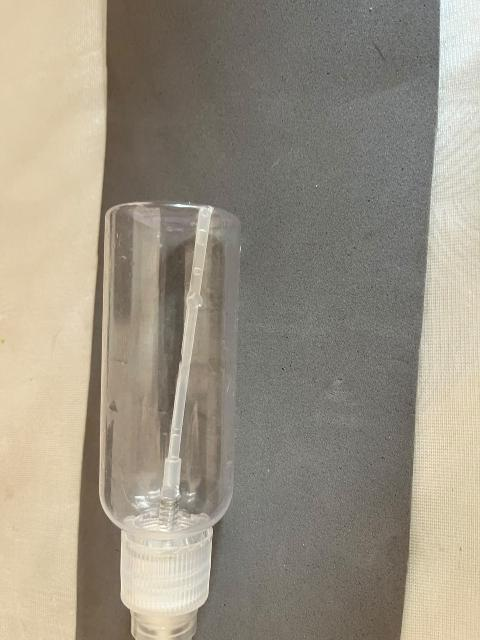PET: (56, 178, 302, 640)
